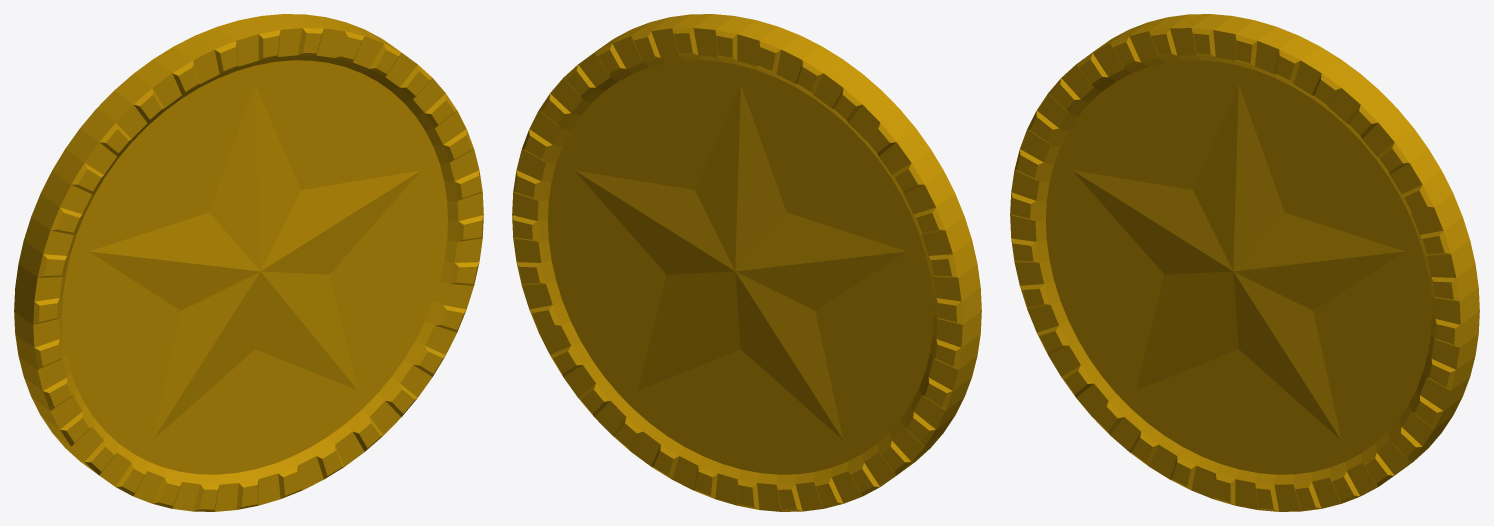
The model's file is coin.fbx.
3 renders of one model, left to right at view 1: azimuth 30°, elevation 25°; view 2: azimuth 150°, elevation 25°; view 3: azimuth 330°, elevation 25°, orthographic.
Visible parts, largest first — view 1: Coin; view 2: Coin; view 3: Coin.
Boxes of the visible parts, box(x1,y1,x2,y2) form: Coin: box(14, 14, 483, 511); Coin: box(512, 14, 981, 511); Coin: box(1010, 14, 1479, 511).
Size of the model in its own units: 102 by 102 by 9.12.
